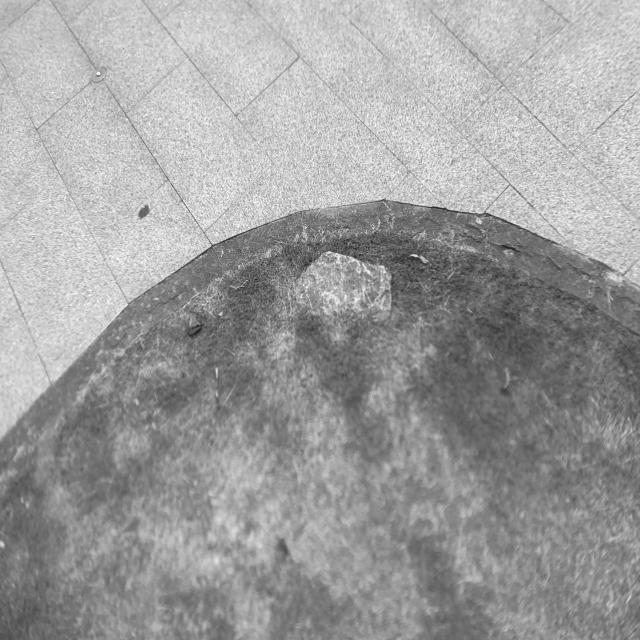Stone: (296, 251, 392, 313)
